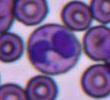N: (27, 24, 80, 74)
